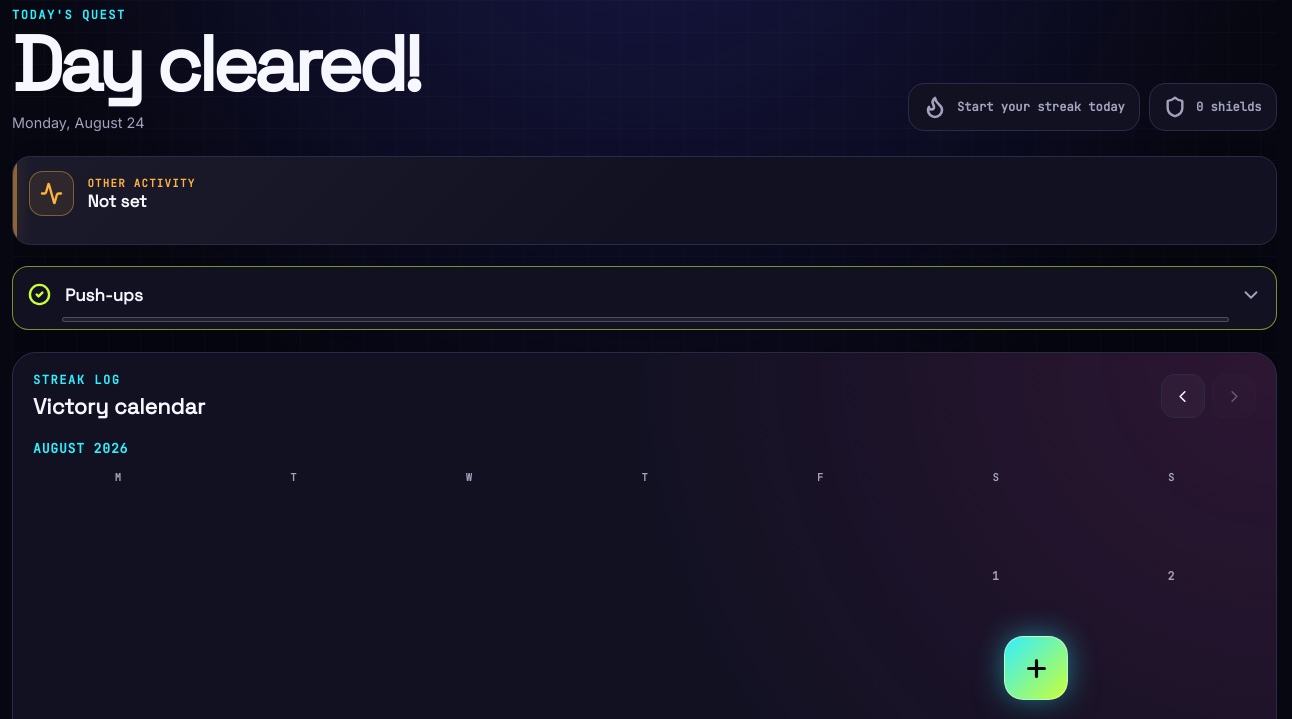
Scenario: today’s arcade training dashboard › keeps the displayed snapshot when undoing reps fails
Click the button with test id "exercise-toggle-push-ups" at (104, 295), box [12, 266, 1277, 330]
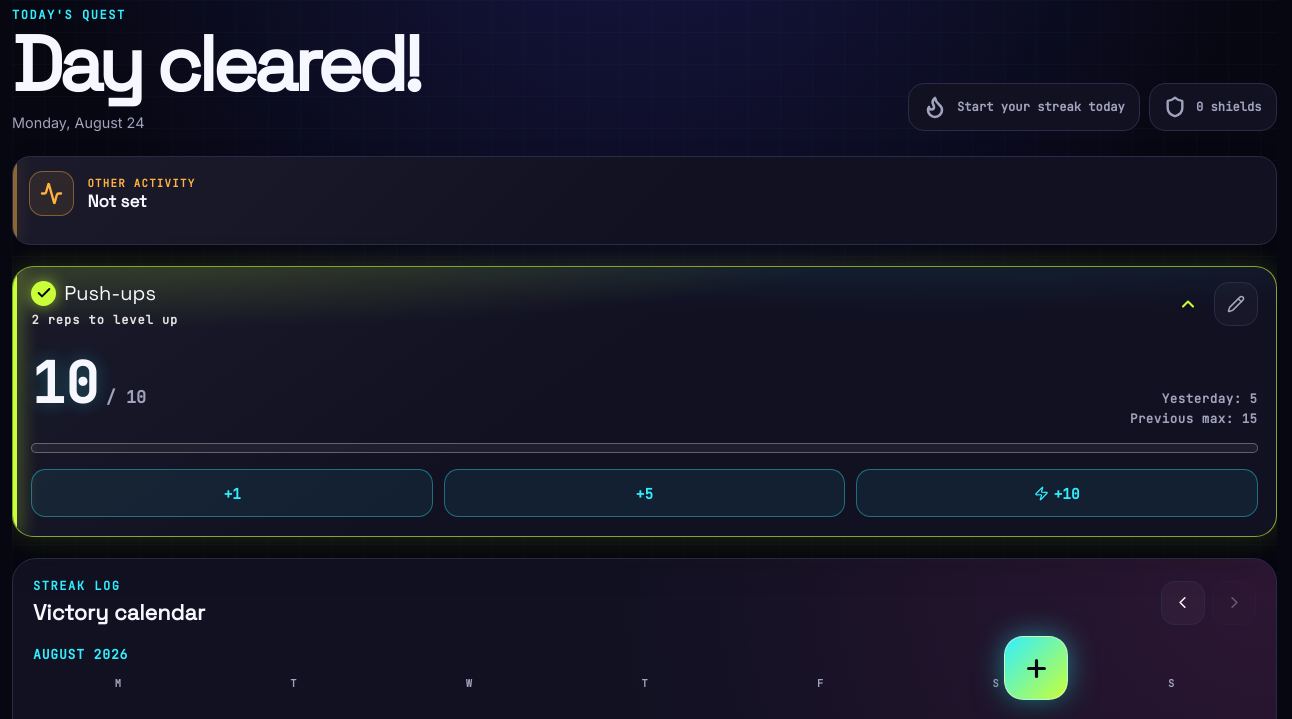
Click the button named "Add 1 rep to Push-ups" at (232, 493), box [31, 469, 433, 517]
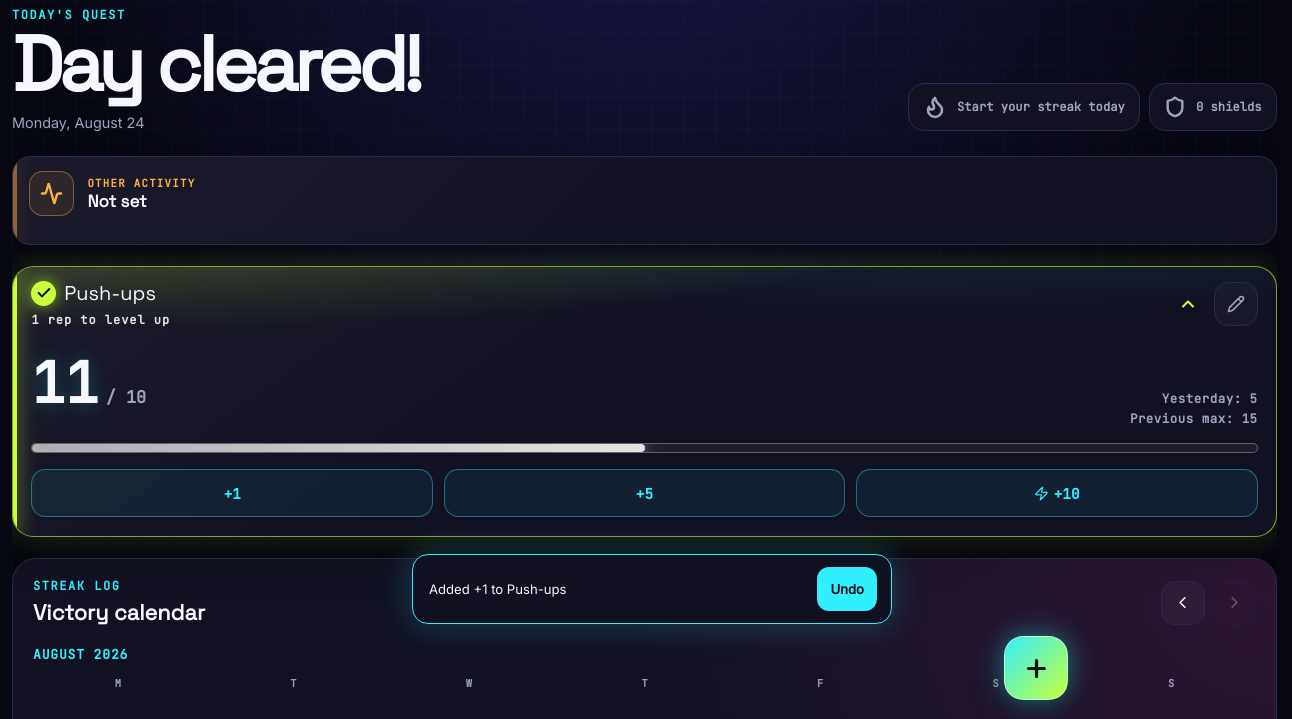
Click the button "Undo" at (847, 589), box [817, 567, 877, 611]
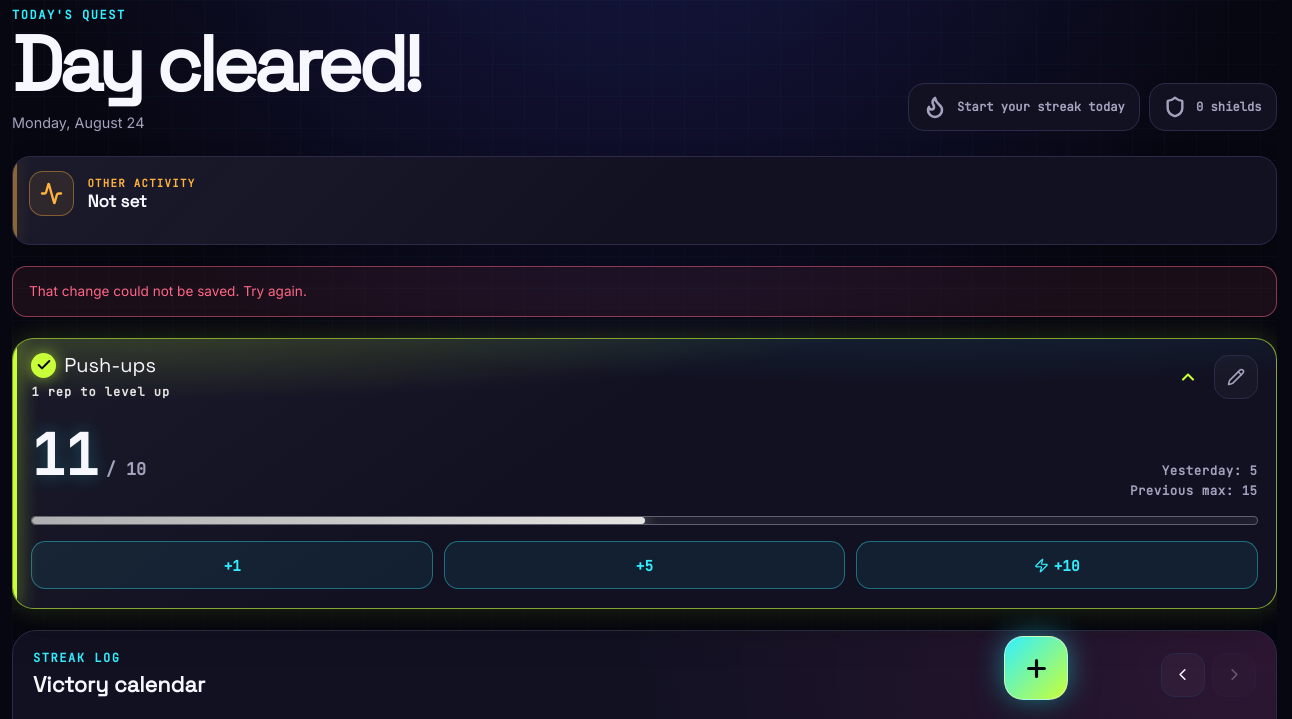
Now the text "1 rep to level up" is shown, box [31, 384, 170, 400]
Now the text "That change could not be saved" is shown, box [29, 283, 307, 299]
